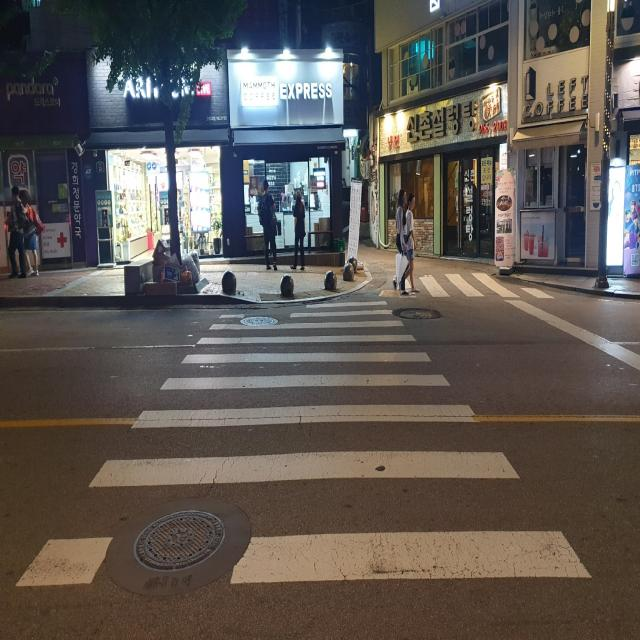횡단보도: (16, 300, 592, 590), (378, 268, 562, 300)
